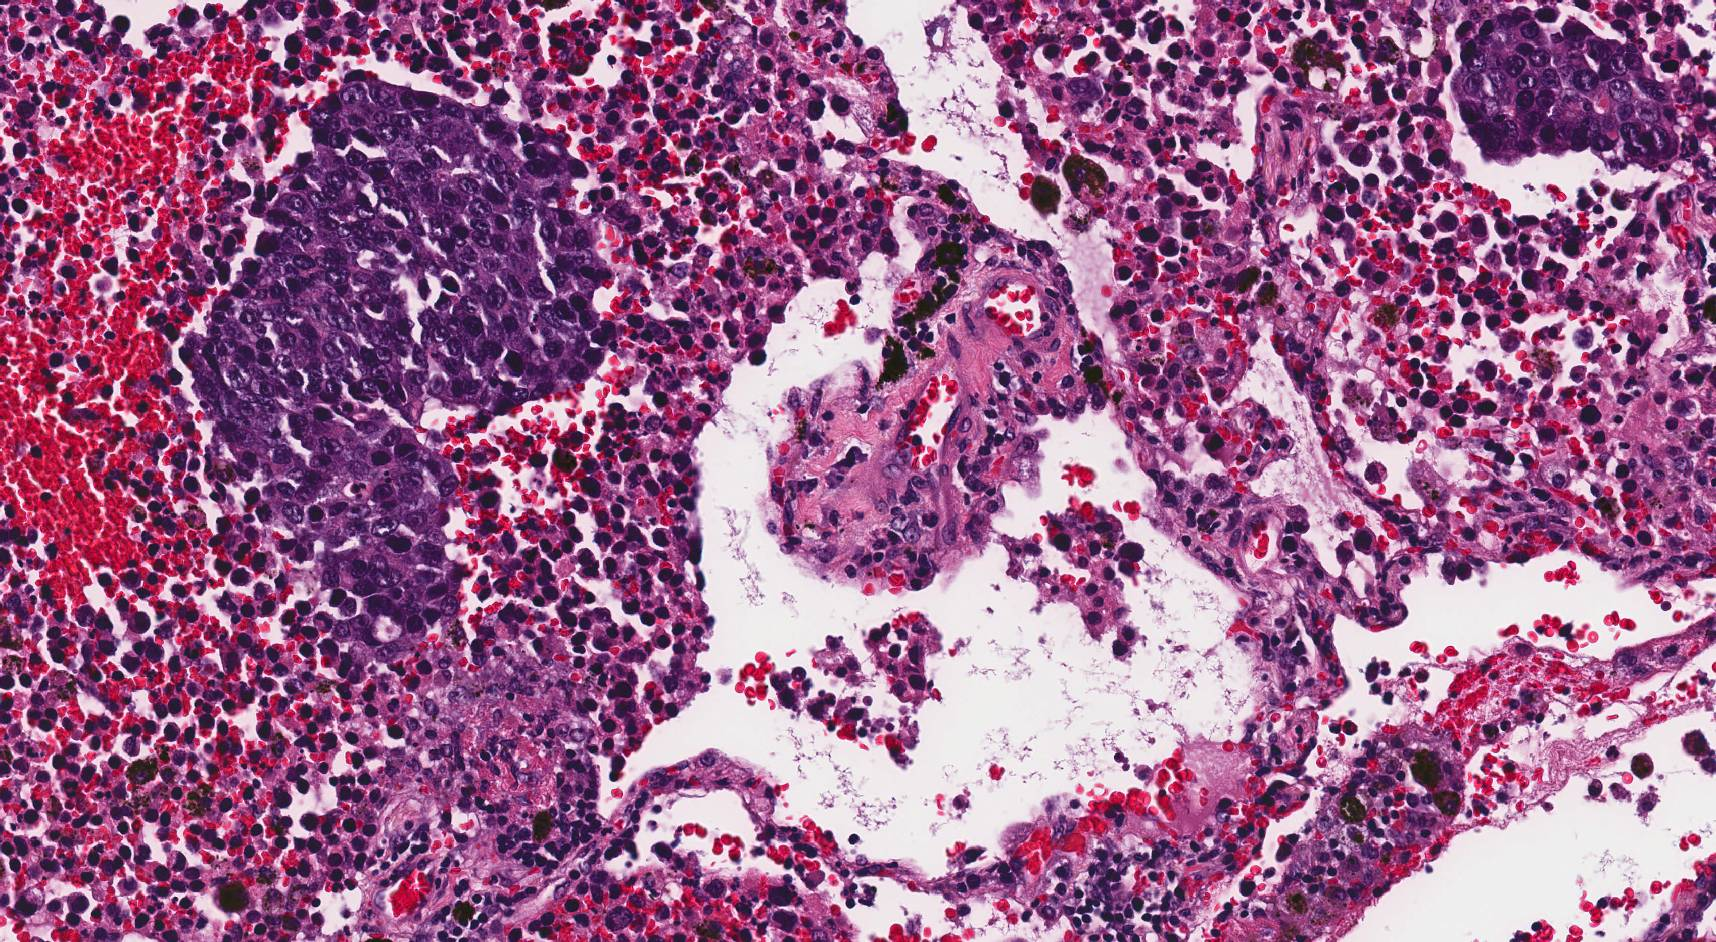stas: (180, 73, 608, 638), (1452, 7, 1682, 169)
